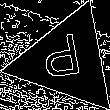P_S: (43, 32, 90, 89)
